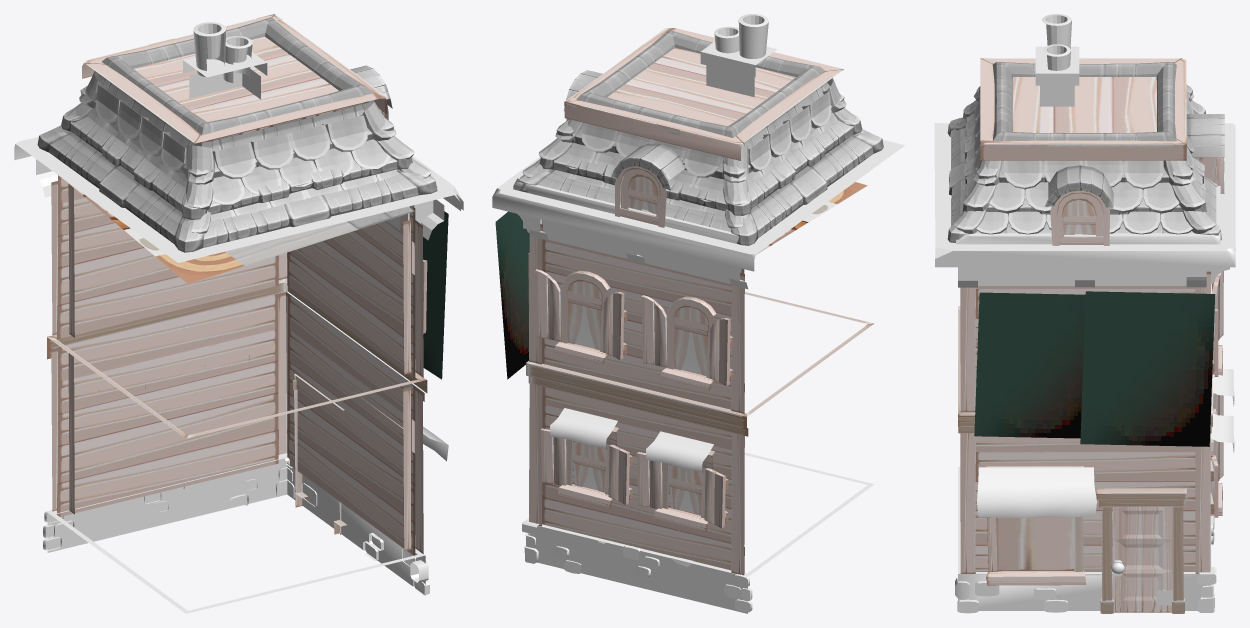
The model's file is HouseVillage4.fbx.
3 renders of one model, left to right at view 1: azimuth 30°, elevation 25°; view 2: azimuth 150°, elevation 25°; view 3: azimuth 270°, elevation 25°, orthographic. The views are drawn at different scales.
Visible parts, largest first — view 1: Roof2, HouseWall_Light (1), Roof, HouseWall_Shadow (1), HouseBase, HouseWall_Light, HouseWall_Shadow, HouseFloor1, HouseFloorGround, Chimney, glowingHaloPlane, HouseDoor2 (+1 smaller); view 2: Roof2, Roof, HouseWall_Light (1), HouseWall_Light, HouseBase, HouseFloor1, WindowRoundShutterRight (×2), WindowRoundShutterRight002 (×2), glowingHaloPlane (1), Chimney, HouseFloorGround, HouseWindowNight (1) (×2) (+8 smaller); view 3: Roof, Roof2, glowingHaloPlane (1), glowingHaloPlane, HouseWall_Shadow (1), HouseDoor2, HouseShopWindow, HouseBase, AwningBig, HouseFloorGround, HouseWindowRoofLeft, Chimney (+7 smaller).
Part boxes in pixels (box(x1,y1,x2,y2)): Roof2: box(14, 17, 460, 262); HouseWall_Light (1): box(57, 293, 278, 516); Roof: box(17, 14, 463, 283); HouseWall_Shadow (1): box(287, 293, 415, 555); HouseBase: box(43, 453, 429, 613); HouseWall_Light: box(57, 175, 278, 339); HouseWall_Shadow: box(287, 205, 415, 378); HouseFloor1: box(47, 181, 427, 438); HouseFloorGround: box(51, 292, 423, 553); Chimney: box(183, 22, 267, 99); glowingHaloPlane: box(423, 211, 448, 379); HouseDoor2: box(292, 374, 346, 534); Roof2: box(495, 30, 904, 289); Roof: box(492, 28, 902, 270); HouseWall_Light (1): box(542, 386, 744, 573); HouseWall_Light: box(542, 220, 744, 412); HouseBase: box(522, 452, 874, 613); HouseFloor1: box(526, 224, 874, 436); WindowRoundShutterRight (×2): box(535, 269, 733, 386); WindowRoundShutterRight002 (×2): box(540, 428, 728, 528); glowingHaloPlane (1): box(495, 211, 529, 379); Chimney: box(700, 14, 777, 97); HouseFloorGround: box(529, 383, 744, 575); HouseWindowNight (1) (×2): box(567, 275, 712, 384); Roof: box(934, 58, 1235, 267); Roof2: box(934, 62, 1235, 287); glowingHaloPlane (1): box(1080, 291, 1215, 446); glowingHaloPlane: box(974, 292, 1085, 438); HouseWall_Shadow (1): box(975, 436, 1195, 571); HouseDoor2: box(1096, 488, 1186, 613); HouseShopWindow: box(986, 466, 1086, 585); HouseBase: box(955, 467, 1216, 613); AwningBig: box(977, 467, 1096, 517); HouseFloorGround: box(960, 433, 1210, 573); HouseWindowRoofLeft: box(1045, 165, 1113, 245); Chimney: box(1035, 14, 1079, 106).
Size of the model in its own units: 3.86 by 7.08 by 3.71.
Materials: 2 (2 with a texture image).
